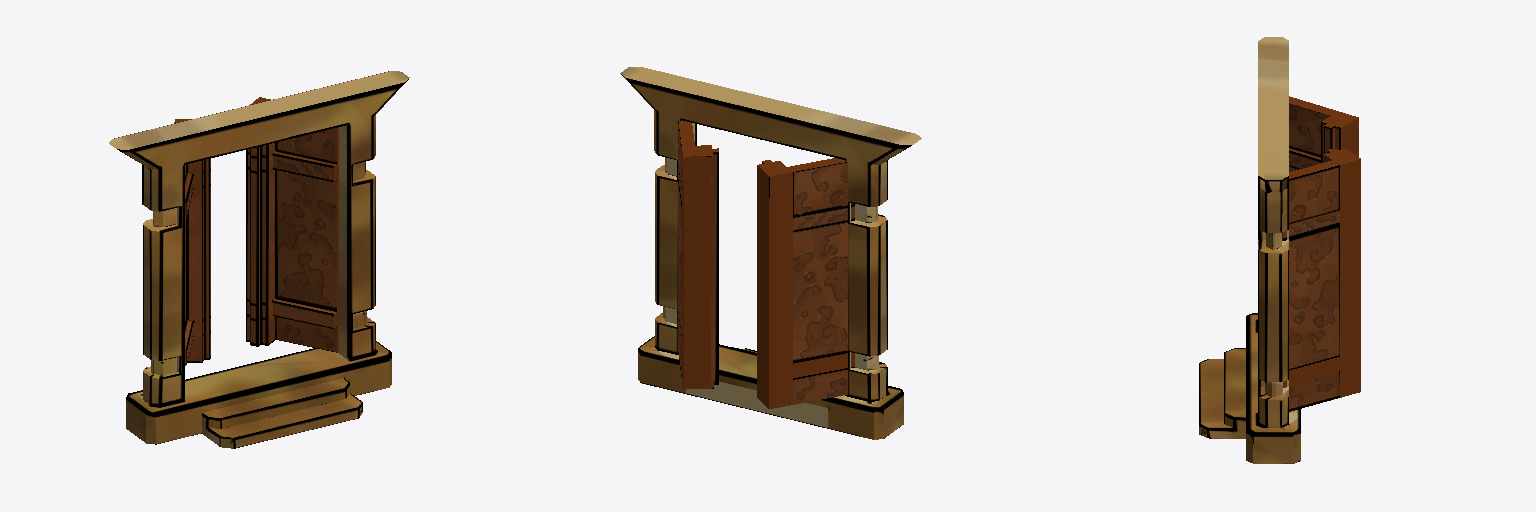
3 views of the same model, side by side, from view 1: azimuth 30°, elevation 25°; view 2: azimuth 150°, elevation 25°; view 3: azimuth 270°, elevation 25° (orthographic).
Parts seen in each view (by area): view 1: doorwall, door1.001, door1; view 2: doorwall, door1, door1.001; view 3: doorwall, door1.001, door1.
Boxes of the visible parts, box(x1,y1,x2,y2) form: doorwall: box(109, 71, 409, 448); door1.001: box(246, 97, 338, 352); door1: box(174, 119, 210, 365); doorwall: box(620, 67, 921, 439); door1: box(757, 158, 854, 408); door1.001: box(678, 120, 718, 389); doorwall: box(1199, 37, 1300, 463); door1.001: box(1282, 148, 1360, 411); door1: box(1289, 96, 1358, 171).
Bounding box in the file's own units: 11.8 × 11.37 × 5.68.
Materials: 2 (2 with a texture image).